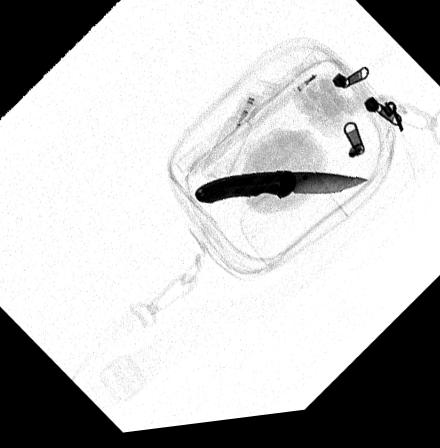Knife: (192, 176, 371, 210)
